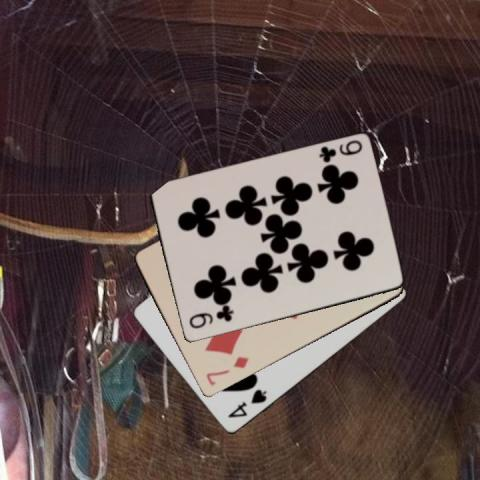4s: (224, 386, 268, 420)
7d: (203, 353, 250, 388)
9c: (316, 137, 364, 165), (186, 306, 235, 331)
